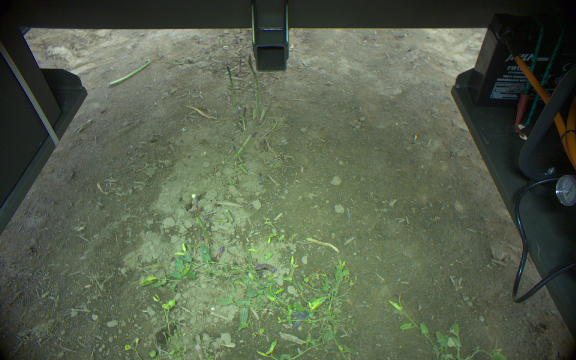aspa: (108, 60, 150, 87), (231, 131, 257, 162), (247, 55, 259, 116), (226, 64, 236, 107), (240, 107, 249, 133)
